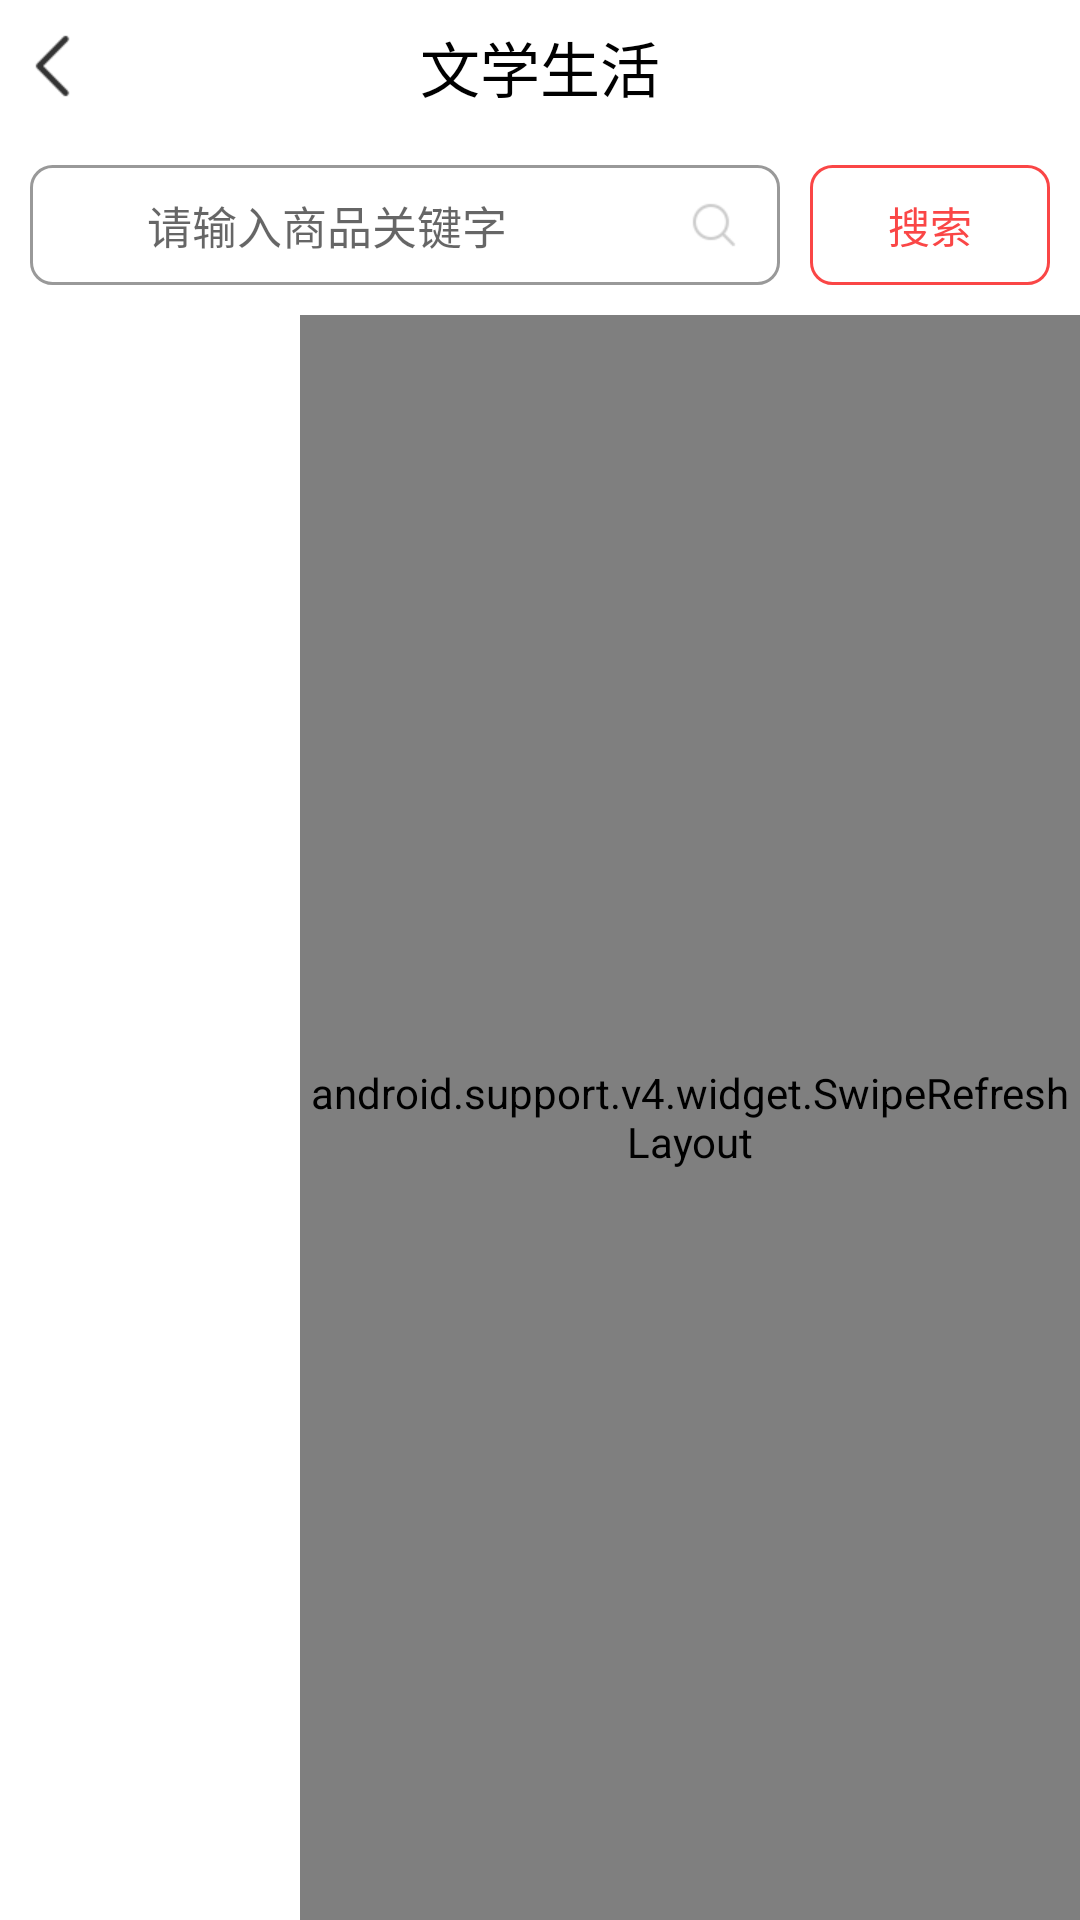

Screen size 1080 × 1920. Icon name, then its box in pixels as rect(x1, y1, x2, y2):
back: rect(35, 35, 69, 97)
search: rect(693, 204, 735, 246)
